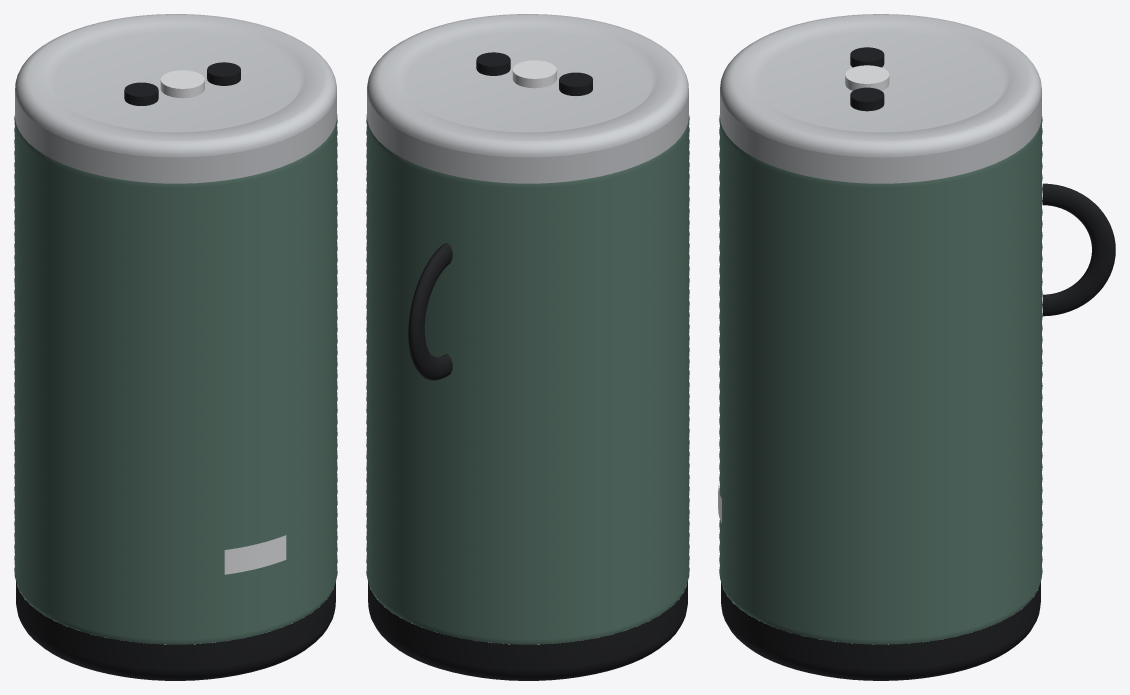
3 views of the same model, side by side, from view 1: azimuth 30°, elevation 25°; view 2: azimuth 150°, elevation 25°; view 3: azimuth 270°, elevation 25° (orthographic).
Visible parts, largest first — view 1: body, cap, foot, badge, power, minus, plus; view 2: body, cap, foot, strap, power, plus, minus; view 3: body, cap, foot, strap, power, plus, minus.
Part boxes in pixels (x1,y1,x2,y2): body: (14, 114, 337, 644); cap: (15, 14, 336, 183); foot: (16, 581, 335, 680); badge: (224, 535, 286, 574); power: (160, 70, 204, 98); minus: (124, 82, 158, 105); plus: (207, 62, 240, 85); body: (366, 114, 689, 644); cap: (367, 14, 688, 183); foot: (368, 581, 687, 680); strap: (408, 243, 452, 380); power: (512, 60, 556, 88); plus: (476, 52, 510, 75); minus: (559, 72, 592, 95); body: (719, 115, 1042, 644); cap: (720, 14, 1041, 183); foot: (721, 582, 1040, 680); strap: (1042, 183, 1115, 316); power: (845, 65, 889, 90); plus: (850, 87, 884, 111); minus: (850, 47, 884, 67).
Bounding box in the file's own units: 0.095 × 0.1768 × 0.1168.
